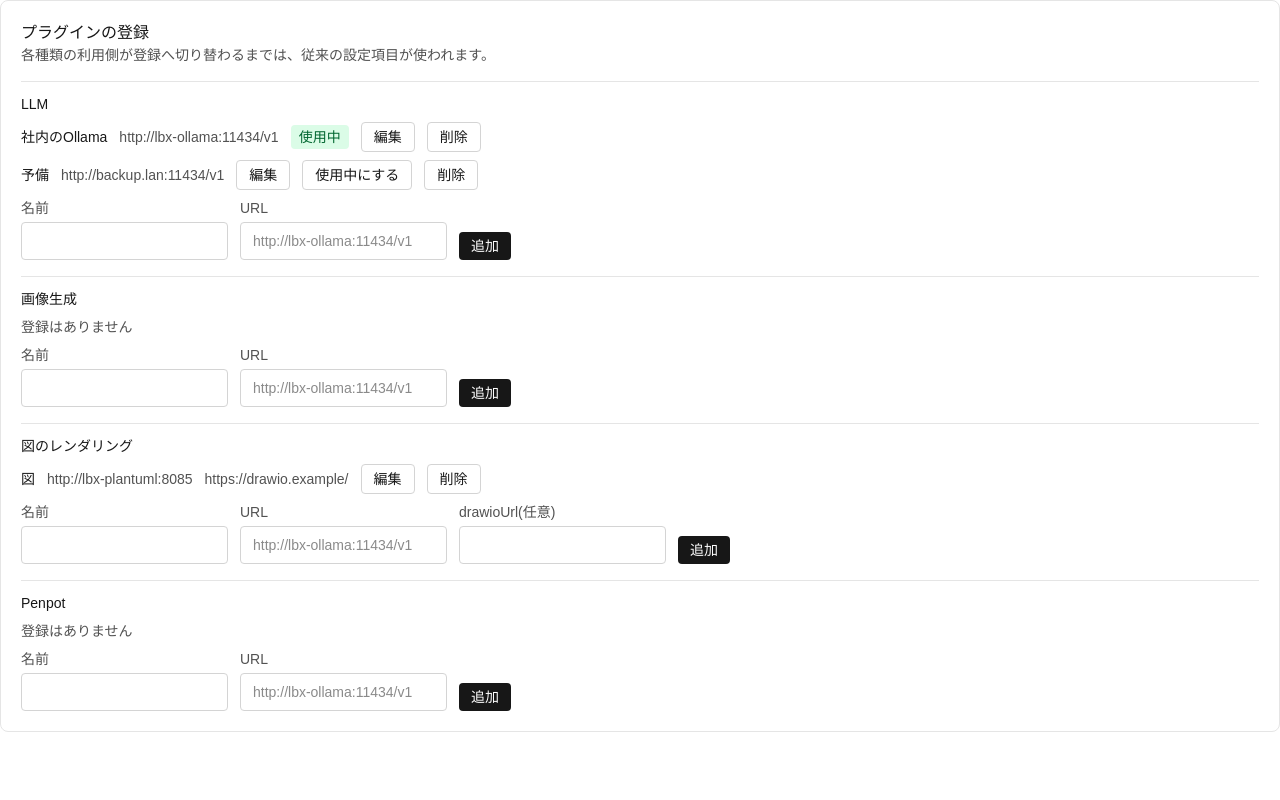
PluginRegistrationsPanel(issue #1807) › 図のレンダリングの編集フォームは drawioUrl を入れて出す
Click the button "編集" next to "https://drawio.example/". click: (388, 479)
box: [360,464,414,494]
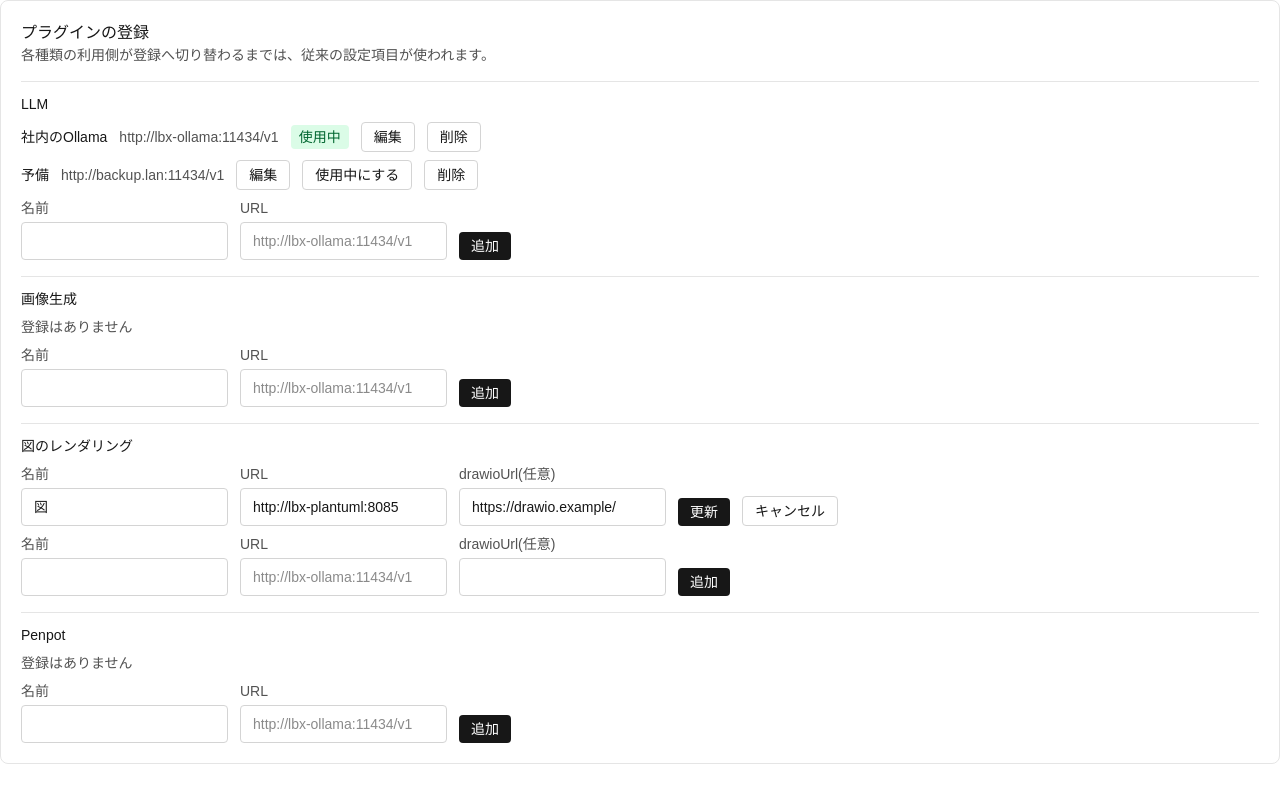
Check: the field named "drawioUrl" holds "https://drawio.example/", box [459,488,666,526]
